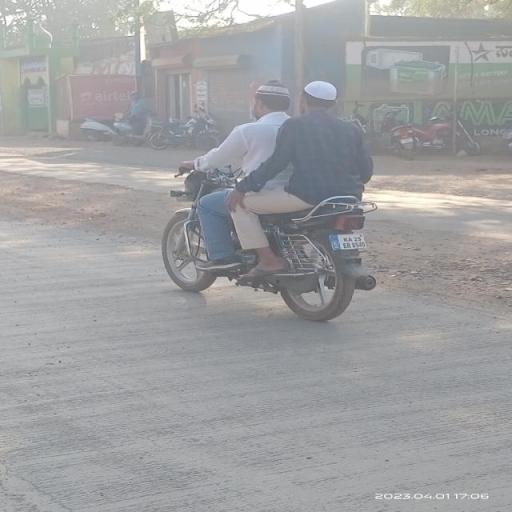bike: (149, 78, 394, 324)
numberplate: (329, 233, 372, 252)
withouthelmet: (253, 85, 291, 116), (302, 82, 338, 112)
